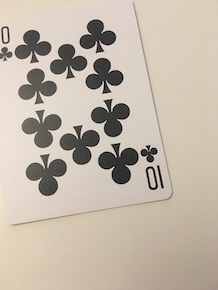TenOfClubs: (1, 1, 176, 229)
